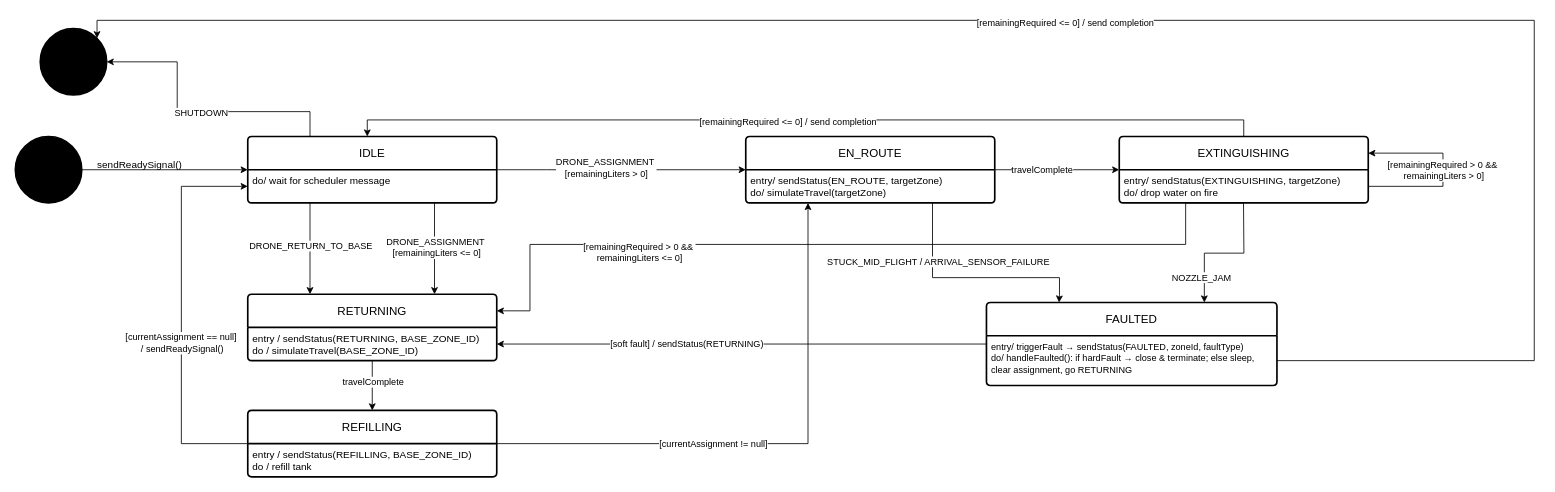
The diagram is 1555 pixels wide and 492 high, and some of its shapes have lost their labels. Here are the shapes that lost their labels. From the top down, the centre of each, then its label:
At [73,61]: "Final".
At [48,169]: "Init".
